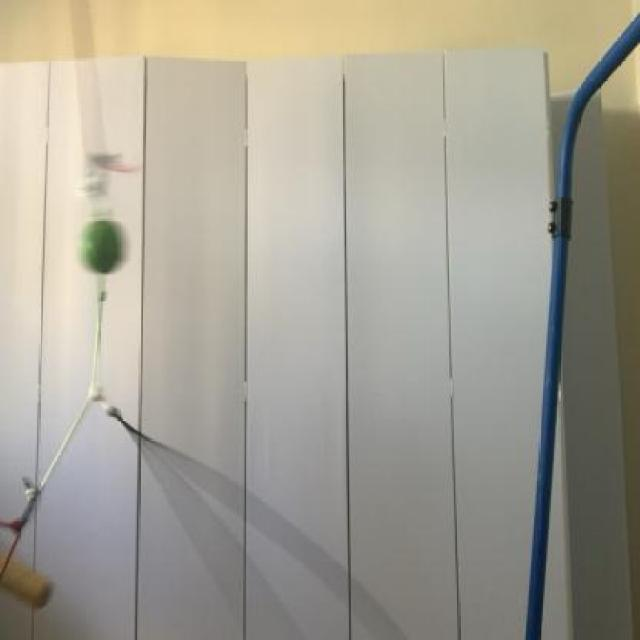baseball: (72, 209, 126, 277)
